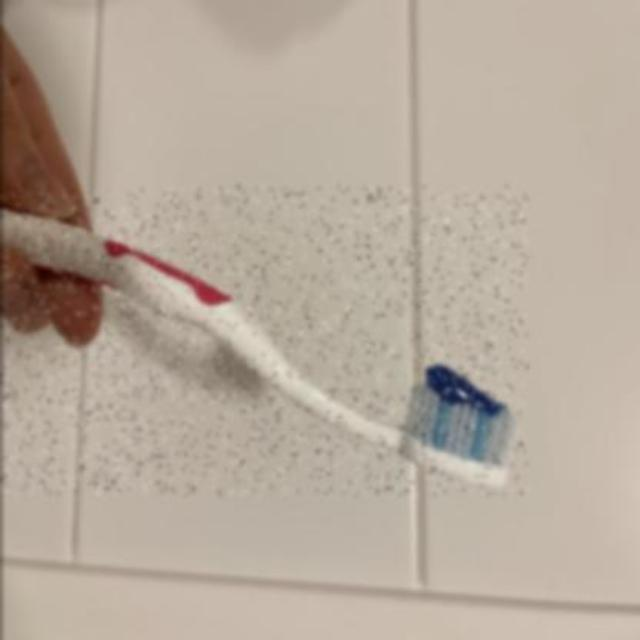toothbrush: (0, 187, 526, 496)
